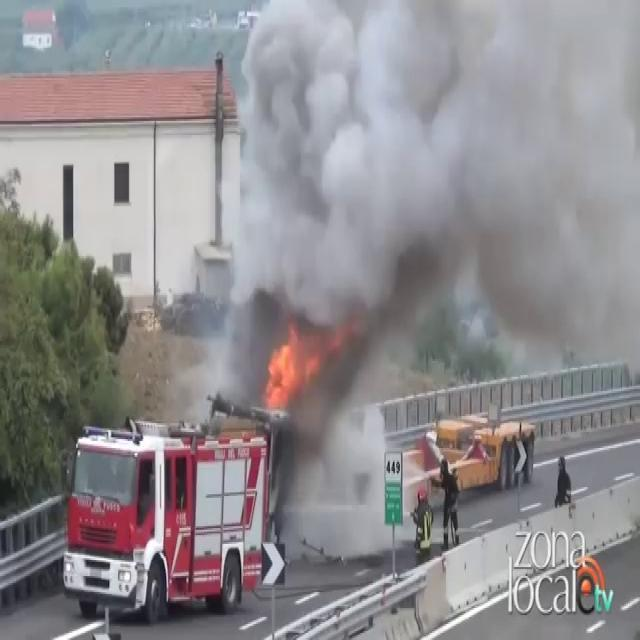Fire: (259, 319, 322, 412)
Smoke: (204, 0, 640, 412)
